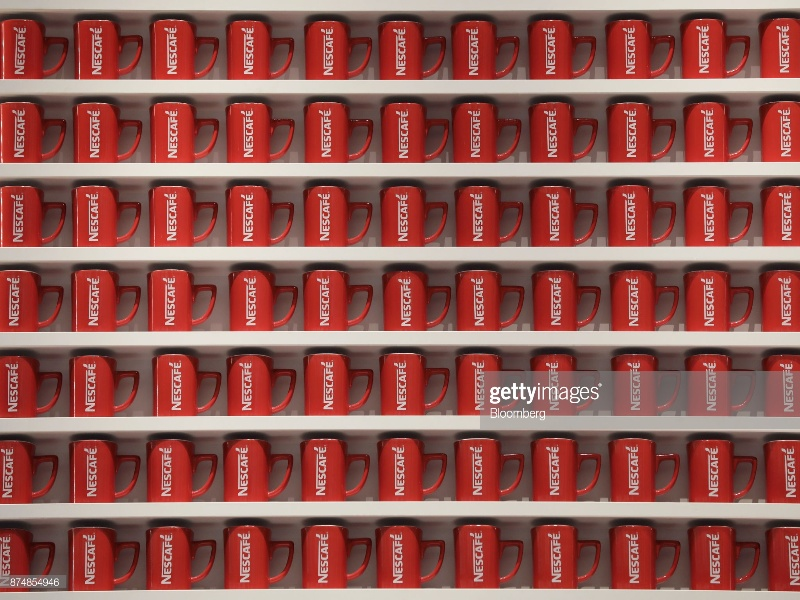nescafe-mug: (683, 428, 770, 500), (293, 517, 376, 585), (141, 518, 216, 592), (446, 523, 532, 586), (525, 9, 596, 85), (63, 524, 142, 592), (144, 97, 224, 164), (62, 268, 142, 334), (75, 174, 147, 247), (300, 353, 382, 417), (376, 431, 452, 500), (142, 432, 218, 501), (532, 523, 602, 597), (300, 178, 375, 247), (680, 265, 756, 333), (223, 350, 300, 417), (605, 96, 684, 161), (452, 185, 526, 253), (375, 269, 457, 330), (376, 517, 448, 586), (76, 90, 143, 164), (142, 270, 219, 334), (300, 434, 373, 501), (219, 519, 293, 585), (380, 180, 455, 245), (530, 267, 607, 330), (680, 15, 751, 83), (609, 527, 688, 588), (531, 97, 605, 162), (298, 269, 375, 331), (602, 6, 670, 76), (450, 437, 528, 498), (688, 527, 760, 592), (607, 265, 679, 330), (302, 97, 372, 162), (385, 94, 456, 158), (67, 356, 140, 418), (156, 350, 223, 417), (223, 439, 293, 503), (304, 12, 375, 75), (69, 438, 140, 500), (1, 14, 69, 78), (457, 267, 525, 331), (227, 14, 295, 78), (450, 354, 525, 412), (74, 17, 151, 73), (684, 96, 751, 160), (223, 182, 292, 244), (451, 103, 521, 164), (450, 19, 522, 78), (2, 185, 75, 243), (610, 436, 678, 498), (529, 185, 598, 246), (230, 270, 298, 331), (1, 103, 75, 159), (148, 18, 215, 79), (232, 98, 296, 161), (382, 353, 450, 412), (379, 18, 447, 77), (609, 189, 676, 245), (690, 184, 752, 244), (530, 441, 601, 493), (1, 359, 59, 422), (153, 187, 218, 241), (1, 275, 61, 329), (1, 442, 52, 504), (10, 526, 51, 594)
